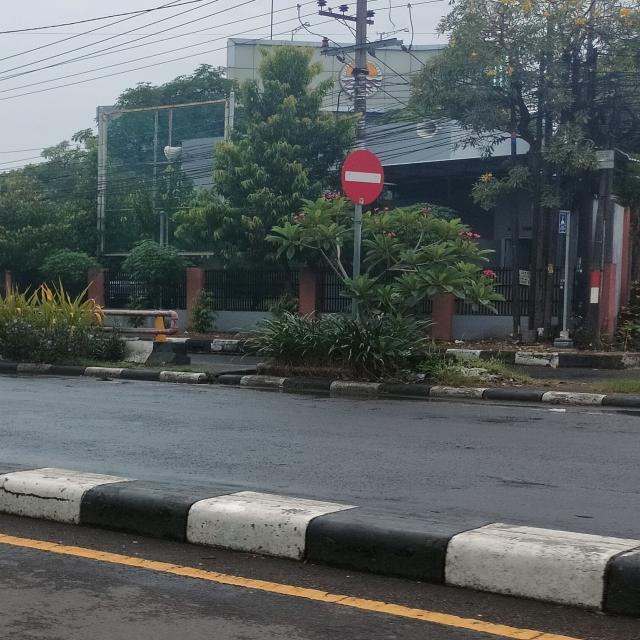Dilarang Masuk: (340, 148, 386, 206)
